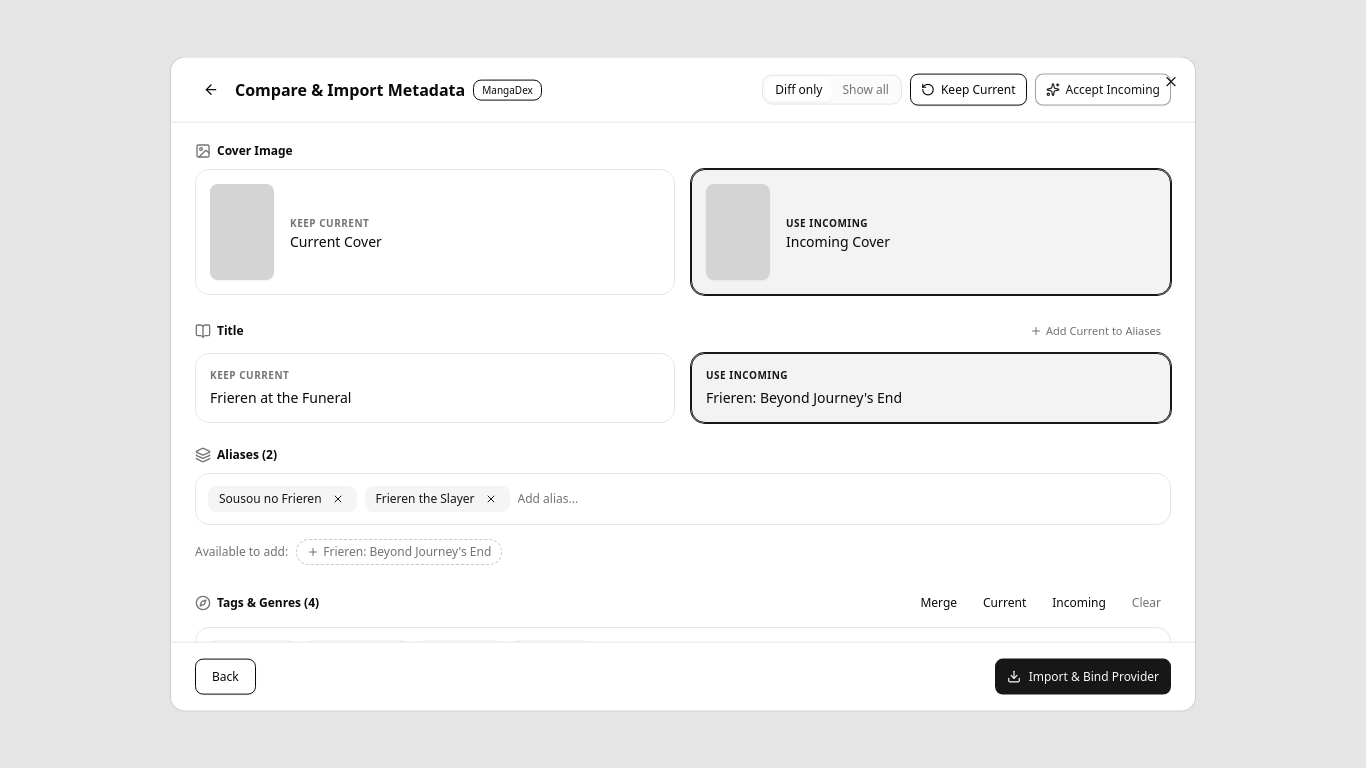
ImportMetadataDialog › supports title inline "+ Add to Aliases" action and hides when already present case-insensitively
The width and height of the screenshot is (1366, 768).
Expected: the text "Compare & Import Metadata" is shown, [235,78,465,102]
Click the button "Add Current to Aliases" at point(1096, 331), box [1020,319,1171,343]
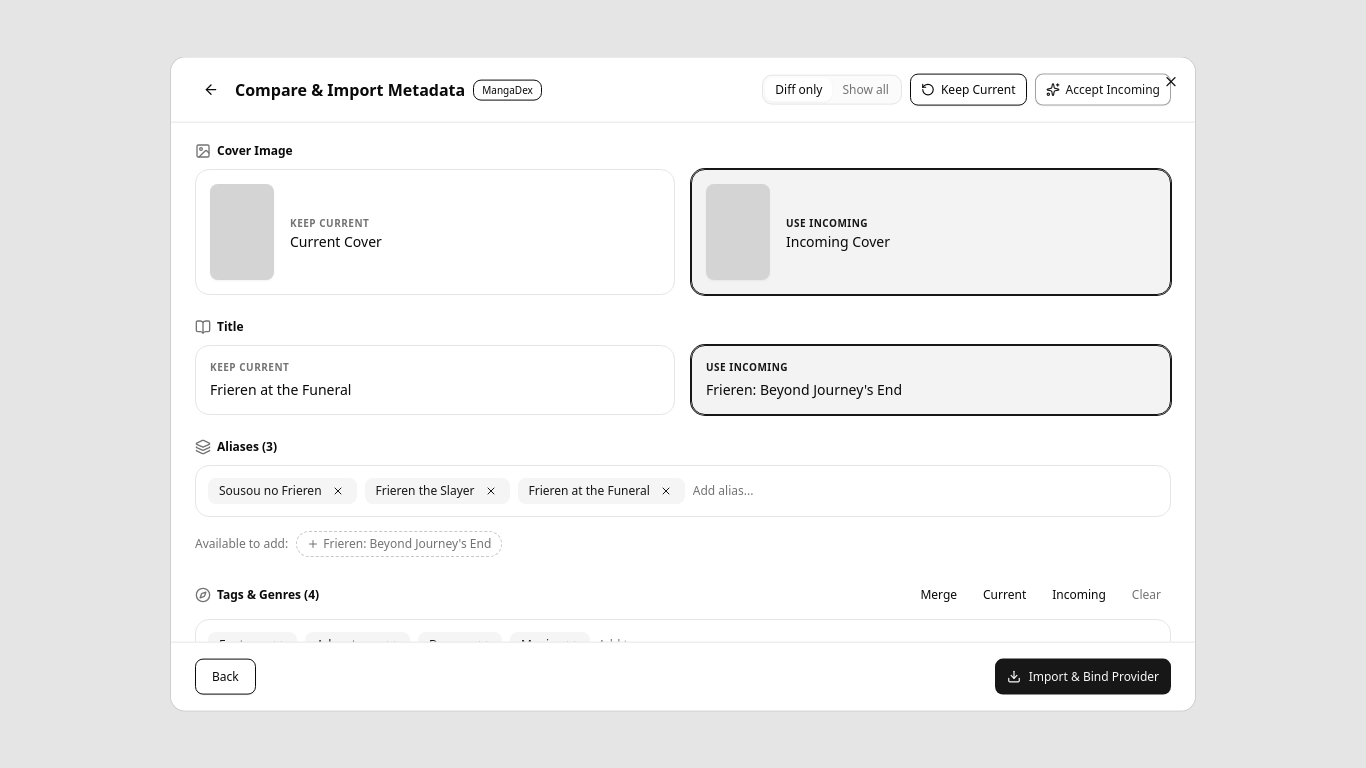
Expected: the button "Add Current to Aliases" is gone
Expected: the button titled "Remove \"Frieren at the Funeral\"" is shown, [658,482,674,498]
Click the button "Keep Current Frieren at the Funeral" at point(250, 367), box [195,345,675,414]
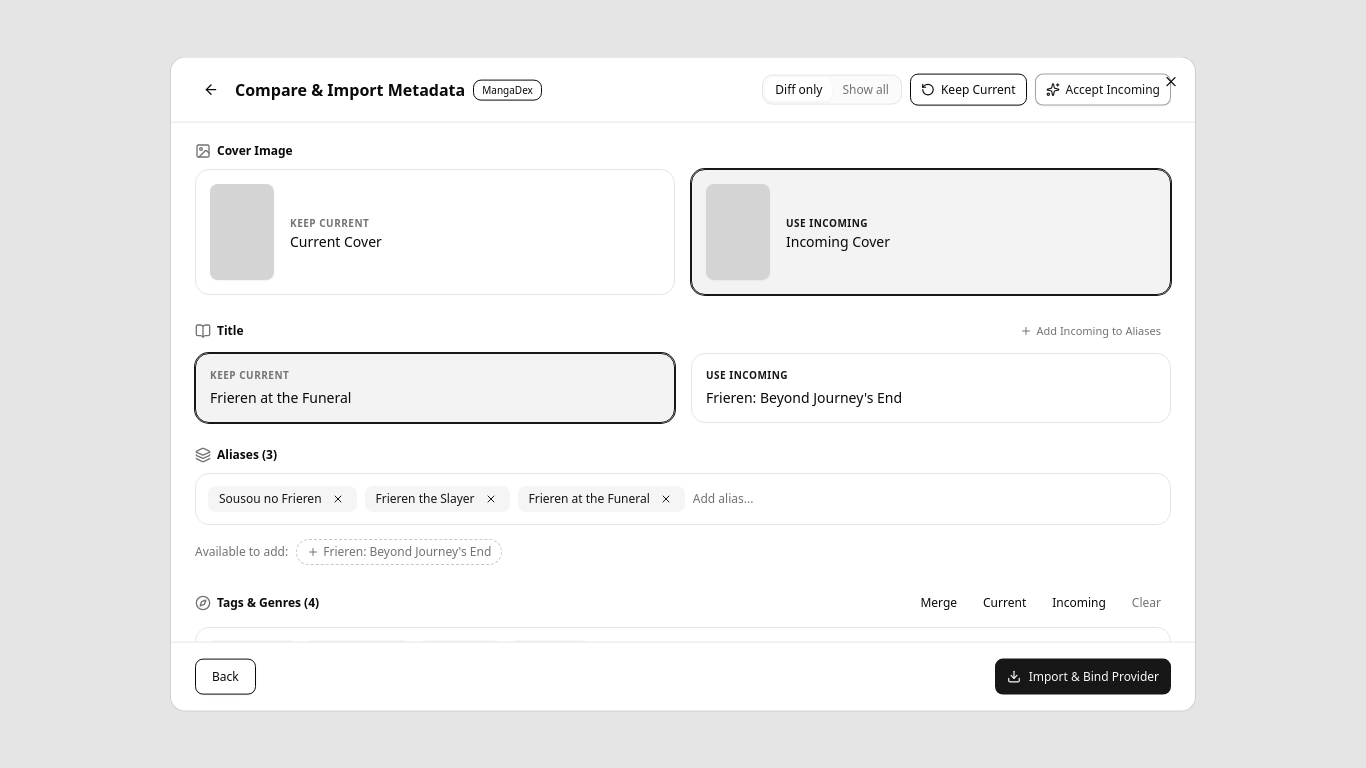
Expected: the button "Add Incoming to Aliases" is shown
Click the button "Add Incoming to Aliases" at point(1091, 331), box [1010,319,1171,343]
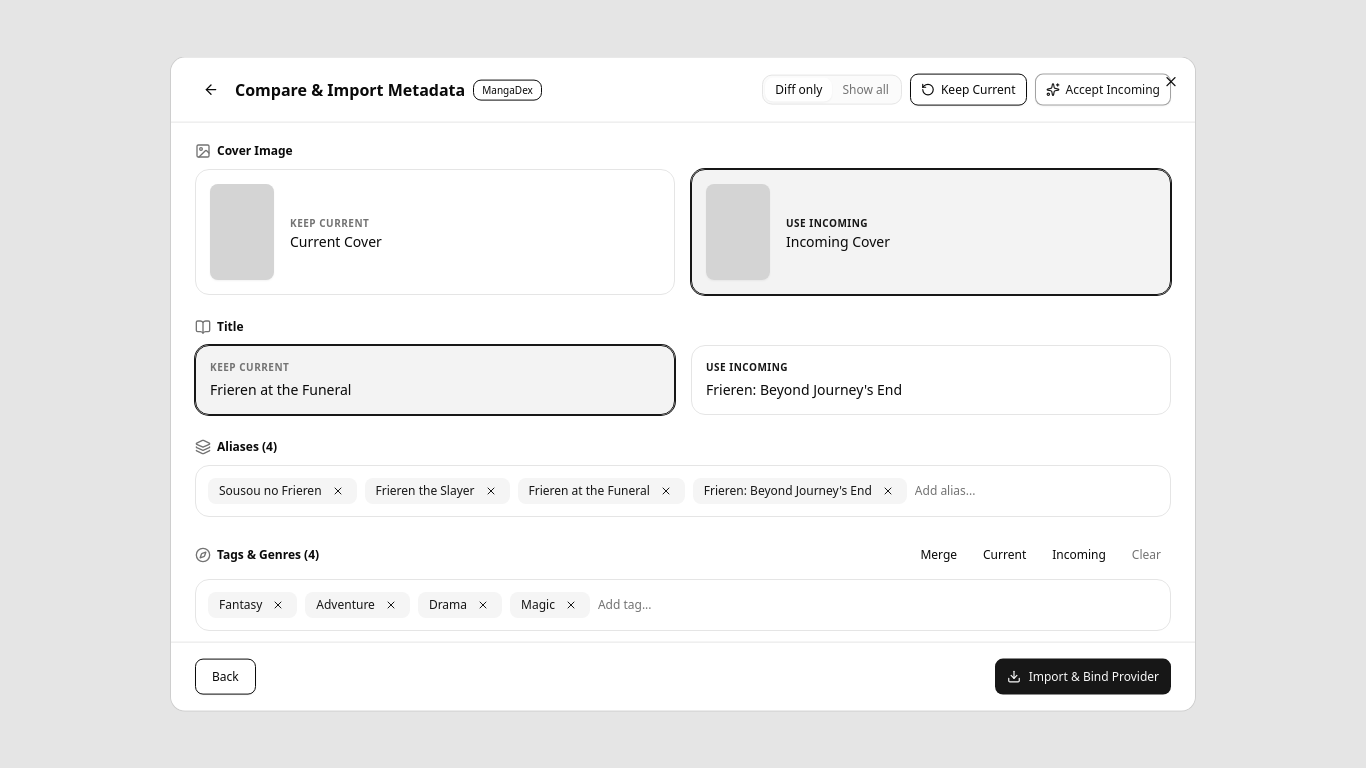
Expected: the button "Add Incoming to Aliases" is gone
Expected: the button titled "Remove \"Frieren: Beyond Journey's End\"" is shown, [880,482,896,498]
